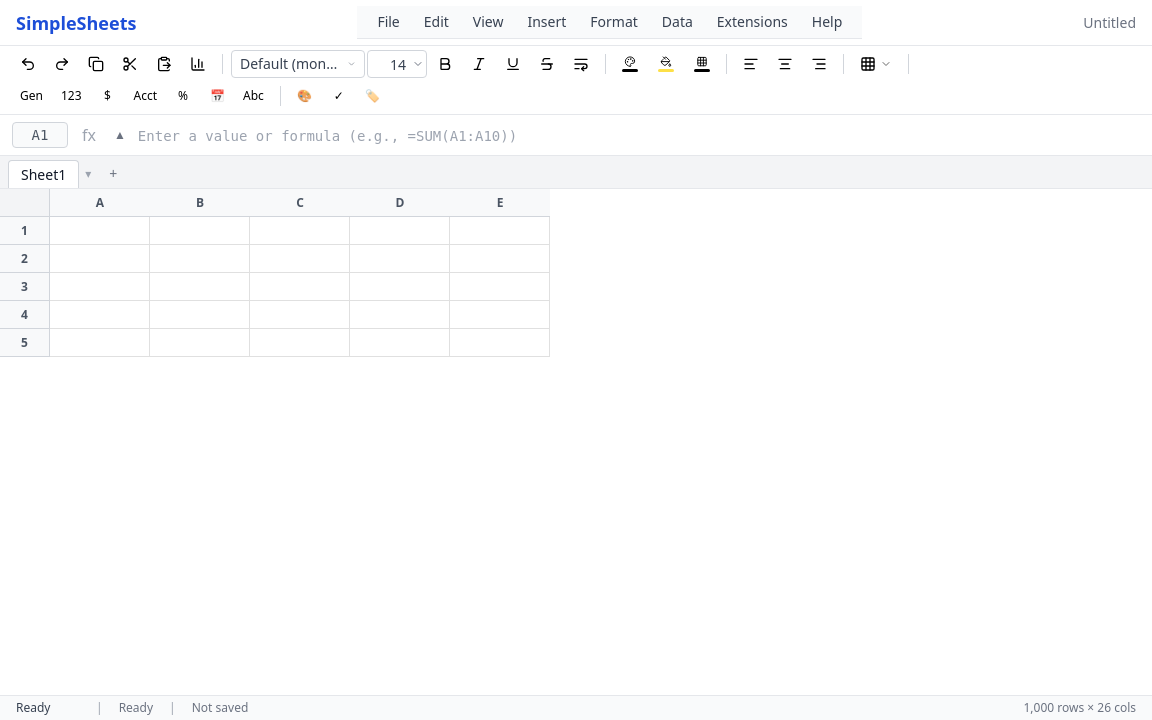
Test: App - External Clipboard Paste › shows paste modal when clipboard has HTML content
Press the mouse on the 1st element with class "grid-cell": point(100, 231) left=50, top=217, right=150, bottom=245
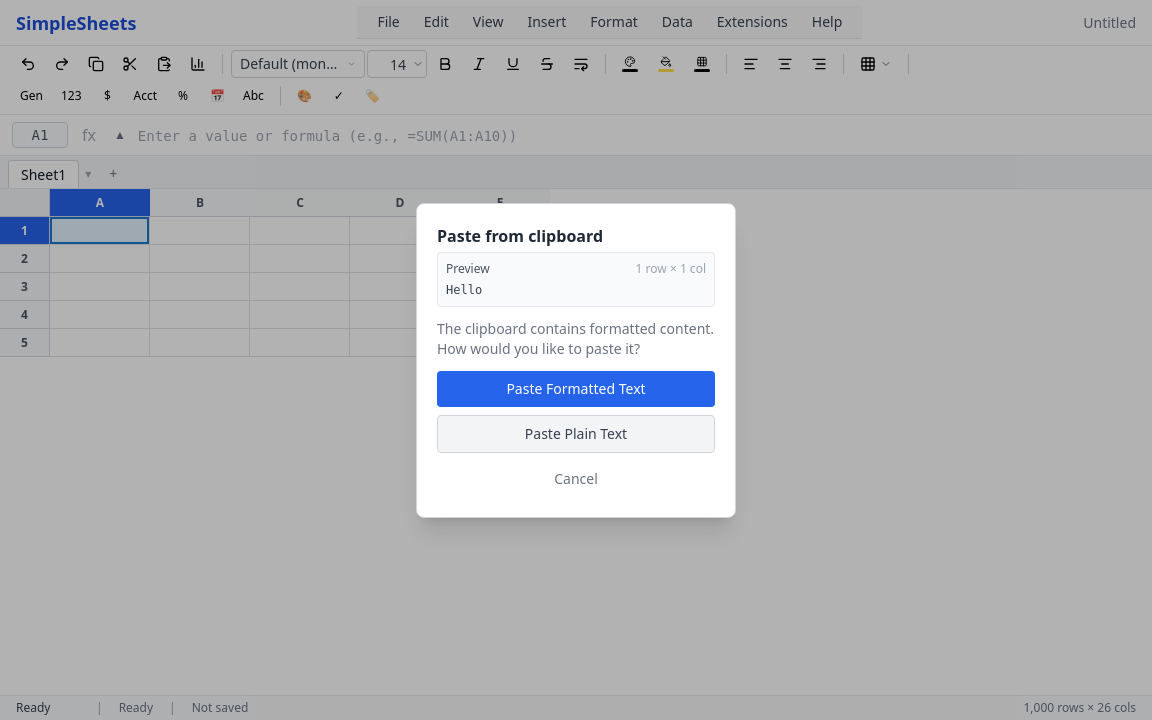
Expected: the heading "Paste from clipboard" is shown, left=437, top=224, right=603, bottom=246
Expected: the button with test id "paste-formatted" is shown, left=437, top=370, right=715, bottom=406
Expected: the button with test id "paste-plain" is shown, left=437, top=414, right=715, bottom=452
